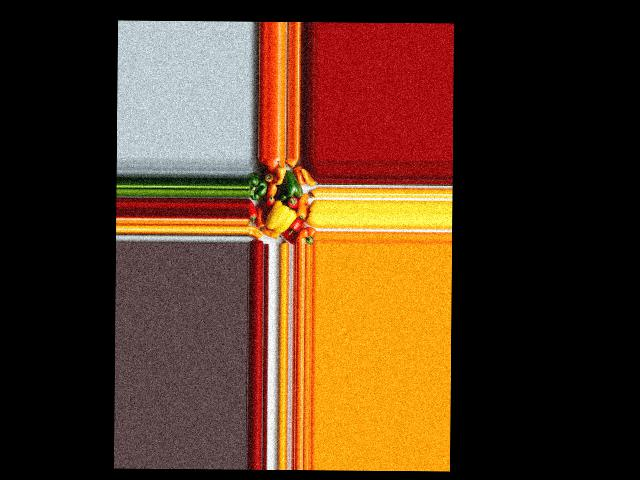bell_pepper: (247, 201, 259, 224)
